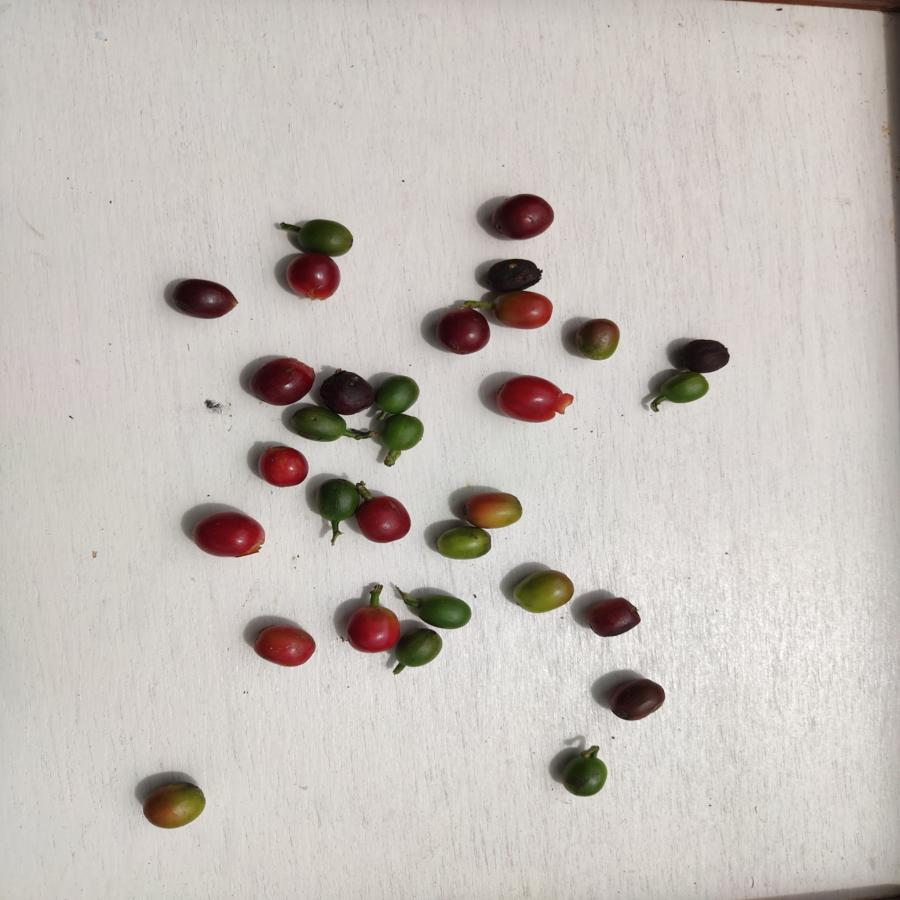Inmaduro: (414, 594, 475, 634), (559, 753, 609, 797), (288, 406, 347, 442), (296, 219, 354, 254), (655, 371, 709, 406), (398, 629, 442, 671), (377, 414, 427, 450), (375, 373, 420, 413), (315, 480, 357, 519)
Maduro: (193, 509, 272, 561), (494, 376, 572, 426), (280, 254, 345, 302), (255, 621, 318, 669), (355, 495, 412, 547), (488, 289, 554, 332), (345, 603, 398, 650), (258, 442, 308, 490)
Pinton: (141, 780, 209, 830), (514, 565, 576, 614), (574, 316, 625, 363), (459, 492, 523, 529), (437, 525, 499, 563)
Sobremaduro: (247, 356, 315, 406), (434, 307, 492, 356), (492, 195, 558, 238), (169, 277, 237, 318), (606, 678, 667, 721), (316, 370, 374, 412), (583, 597, 644, 635), (483, 257, 544, 290), (670, 338, 729, 370)
